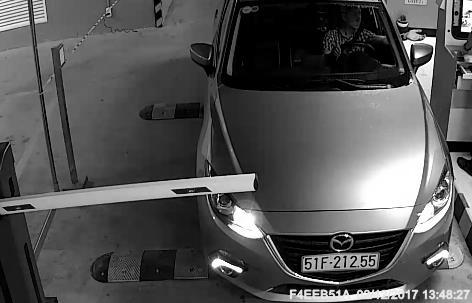License-plate: (297, 247, 388, 278)
